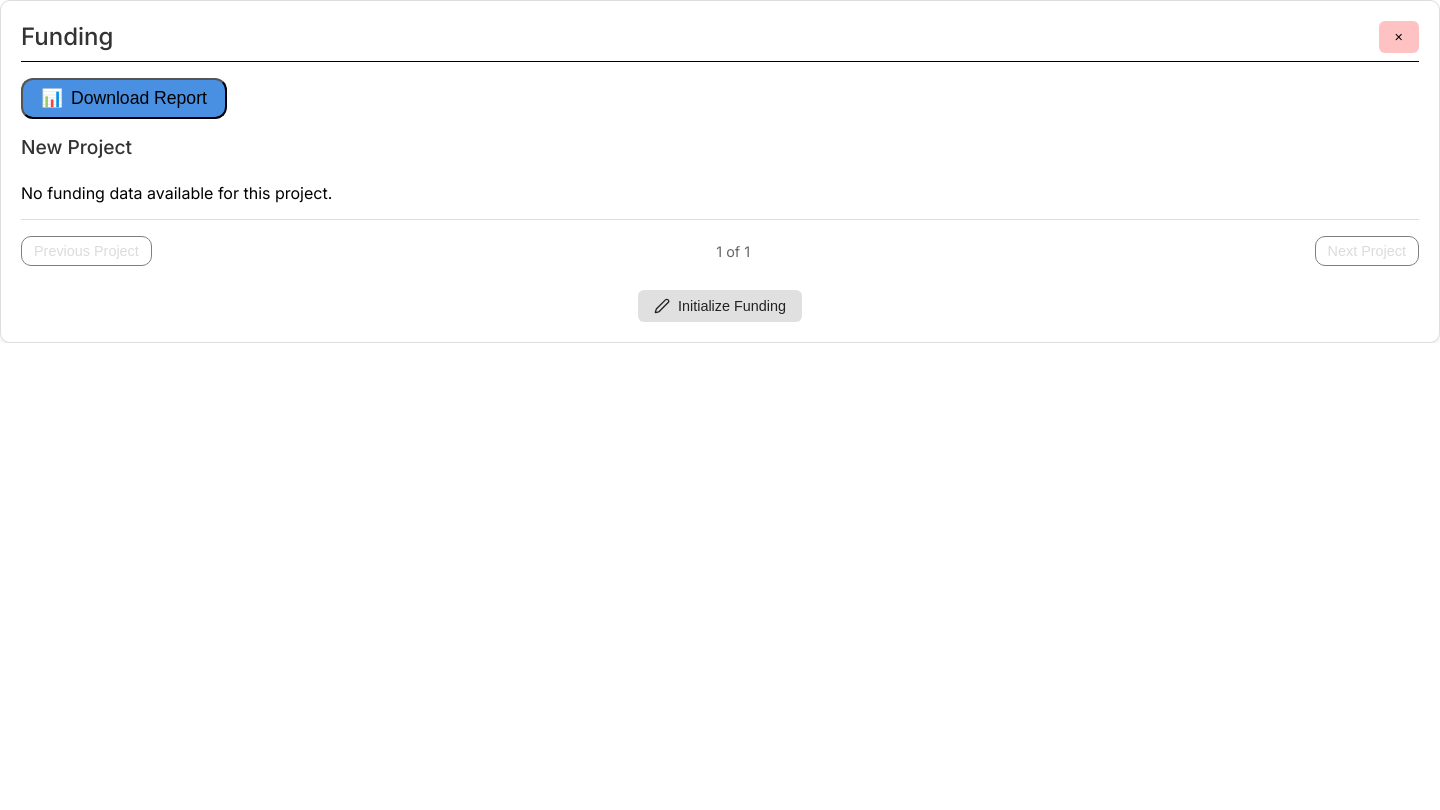
Test: FundingWidget › handles funding initialization for new projects
The width and height of the screenshot is (1440, 810).
Expected: the heading with test id "project-title" reads "New Project", [21, 135, 132, 159]
Click the button with test id "edit-funding-button" at (720, 306), box [638, 290, 802, 322]
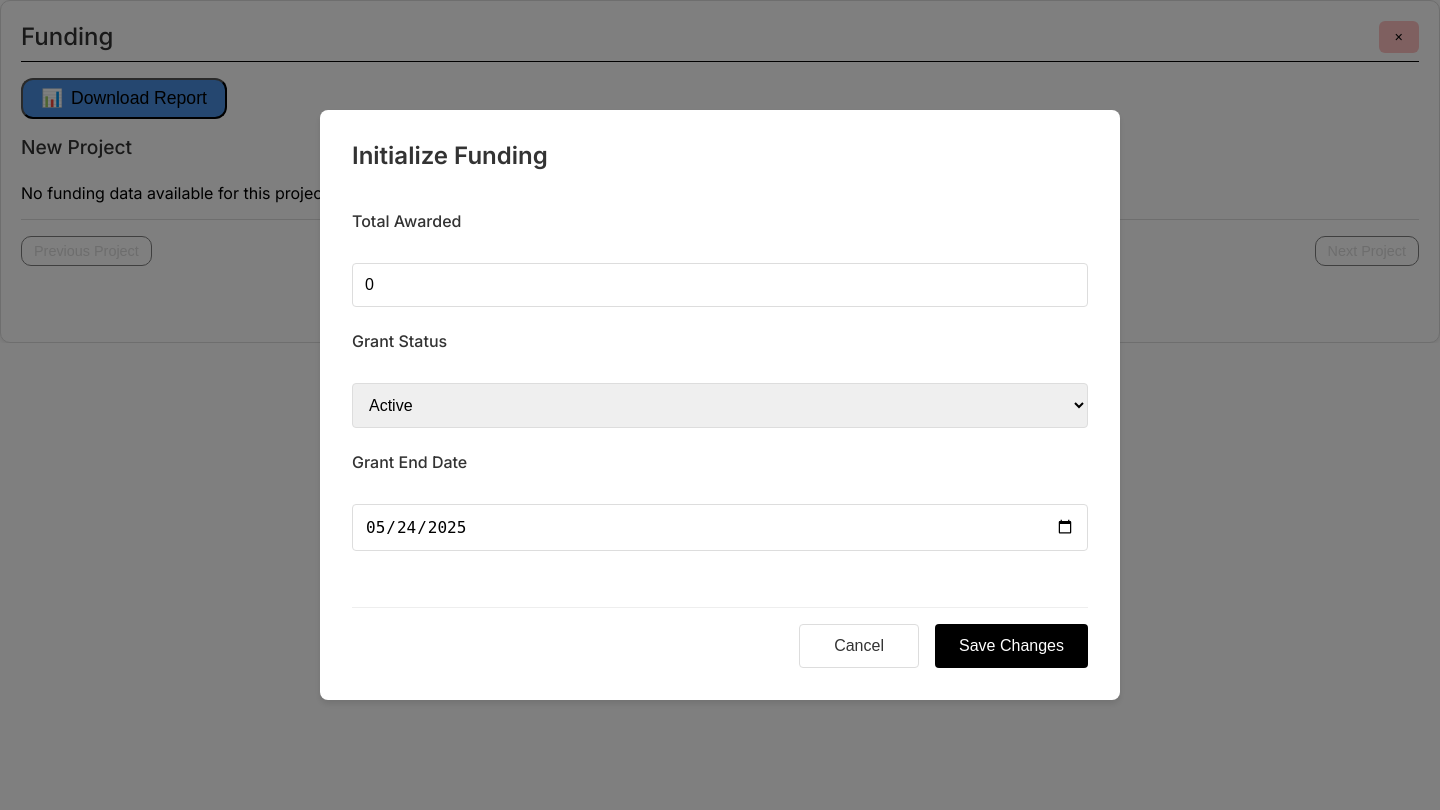
Result: the heading with test id "form-title" reads "Initialize Funding" at [352, 141, 548, 170]
Result: the number field labelled "Total Awarded" is shown at [352, 263, 1088, 307]
